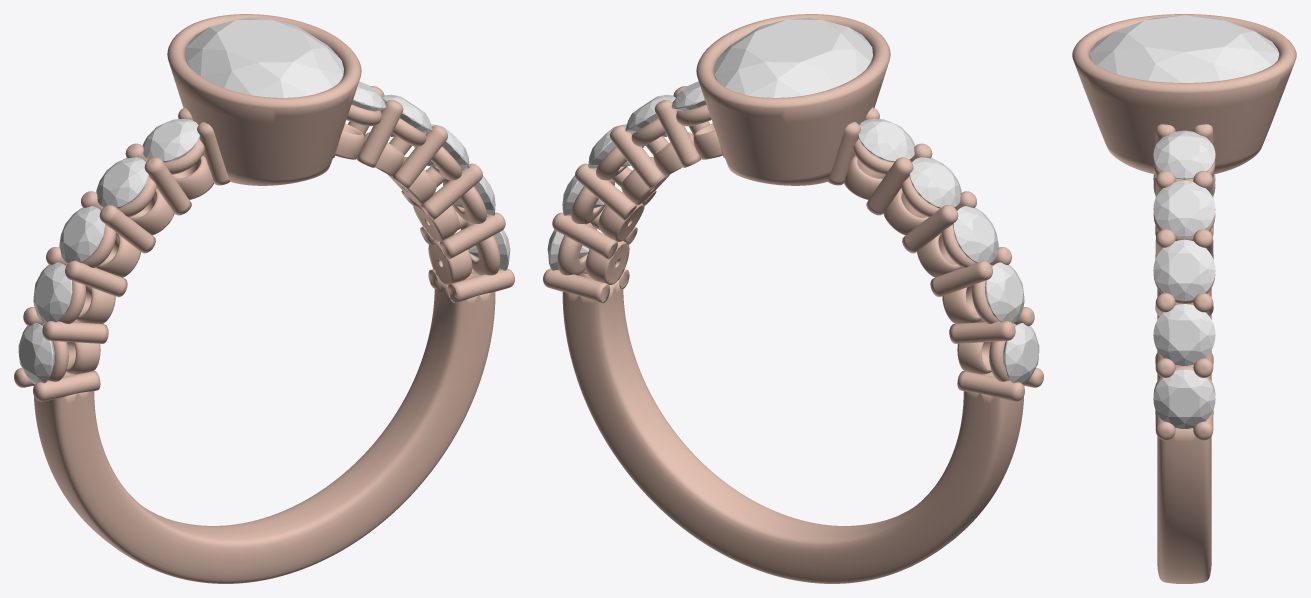
File: diamond-oval-rosegold-bezelset-straightband-11stone.glb
3 views of the same model, side by side, from view 1: azimuth 30°, elevation 25°; view 2: azimuth 150°, elevation 25°; view 3: azimuth 270°, elevation 25° (orthographic).
Visible parts, largest first — view 1: metal, stone.002, side.023, side.022, side.021, side.024, side.020, side.028, side.029; view 2: metal, stone.002, side.023, side.022, side.021, side.024, side.020, side.028, side.029; view 3: metal, stone.002, side.026, side.027, side.025, side.028, side.029.
Part boxes in pixels (bbox=[...]): metal: bbox=[14, 14, 514, 583]; stone.002: bbox=[185, 17, 343, 97]; side.023: bbox=[96, 157, 148, 208]; side.022: bbox=[59, 206, 105, 263]; side.021: bbox=[33, 262, 72, 323]; side.024: bbox=[142, 119, 200, 162]; side.020: bbox=[18, 323, 54, 384]; side.028: bbox=[382, 94, 432, 136]; side.029: bbox=[347, 81, 386, 120]; metal: bbox=[543, 14, 1043, 583]; stone.002: bbox=[714, 17, 872, 97]; side.023: bbox=[909, 157, 961, 208]; side.022: bbox=[952, 206, 998, 263]; side.021: bbox=[985, 262, 1024, 323]; side.024: bbox=[857, 119, 915, 162]; side.020: bbox=[1003, 323, 1039, 384]; side.028: bbox=[625, 94, 675, 136]; side.029: bbox=[671, 81, 710, 120]; metal: bbox=[1072, 14, 1296, 583]; stone.002: bbox=[1089, 15, 1279, 82]; side.026: bbox=[1153, 304, 1215, 365]; side.027: bbox=[1153, 239, 1215, 300]; side.025: bbox=[1153, 369, 1215, 428]; side.028: bbox=[1153, 180, 1215, 237]; side.029: bbox=[1153, 130, 1215, 179].
Bounding box in the file's own units: 22.05 × 23.4 × 9.04.
